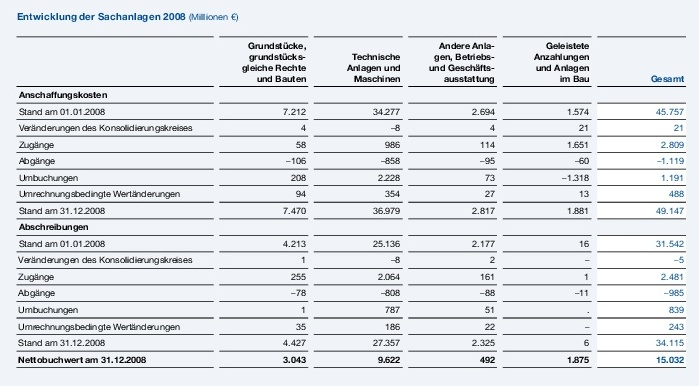table: (0, 0, 699, 386)
